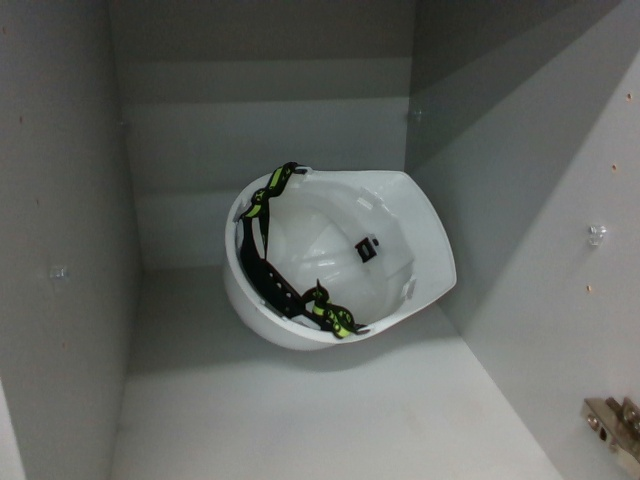helmet: (216, 164, 467, 361)
